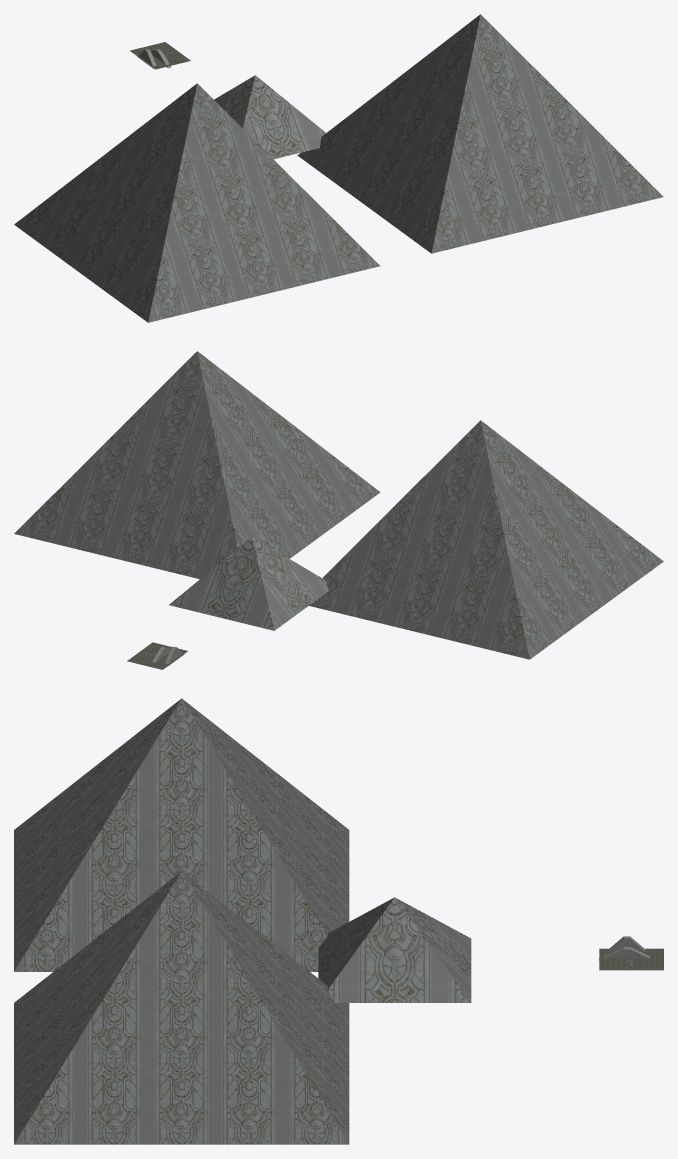
The picture shows the model from 3 angles, top to bottom: view 1: azimuth 30°, elevation 25°; view 2: azimuth 150°, elevation 25°; view 3: azimuth 270°, elevation 25°; orthographic projection. The views are drawn at different scales.
Parts seen in each view (by area): view 1: level; view 2: level; view 3: level.
Boxes of the visible parts, bbox=[...] form: level: bbox=[14, 14, 663, 322]; level: bbox=[14, 351, 663, 669]; level: bbox=[14, 698, 663, 1144].
Bounding box in the file's own units: 4263 × 1281 × 3723.
2 materials, 2 textured.
